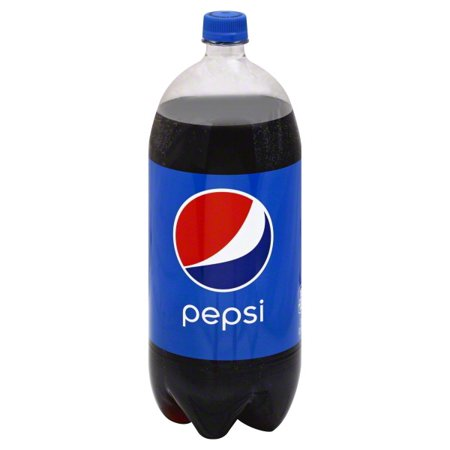pepsi: (172, 187, 273, 292), (175, 187, 273, 292)
